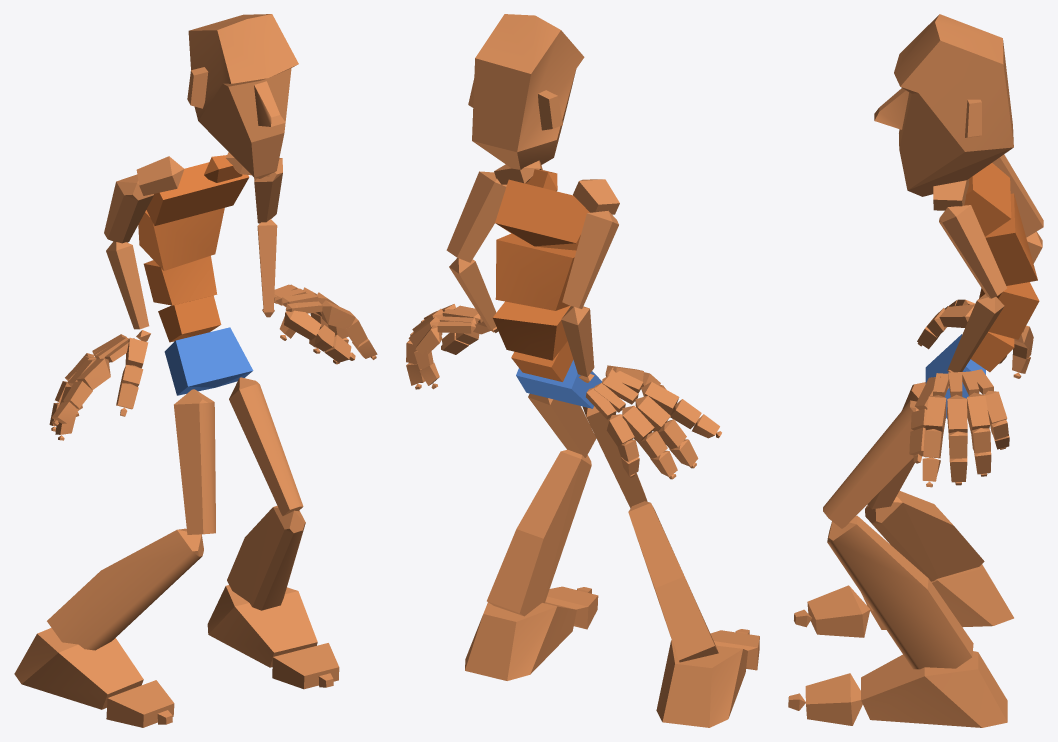
Rendered from personaje36.obj.
3 renders of one model, left to right at view 1: azimuth 30°, elevation 25°; view 2: azimuth 150°, elevation 25°; view 3: azimuth 270°, elevation 25°, orthographic. The views are drawn at different scales.
Visible parts, largest first — view 1: BOPED_Head, BOPED_R_leg, BOPED_R_foot, BOPED_R_foot01, BOPED_L_leg, BOPED_R_legup, BOPED_L_legup, Bone01, Bone04, Bone05, Bone03, BOPED_R_foot_toe04 (+11 smaller); view 2: BOPED_Head, BOPED_L_leg, BOPED_R_foot01, BOPED_R_foot, BOPED_R_leg, Bone04, Bone05, Bone03, BOPED_L_arm_upper, BOPED_R_arm_upper, BOPED_L_legup, Bone01 (+13 smaller); view 3: BOPED_Head, BOPED_L_leg, BOPED_R_foot01, BOPED_R_leg, BOPED_L_legup, BOPED_R_foot, BOPED_L_arm_upper, BOPED_R_foot_toe01, Bone04, BOPED_R_foot_toe04, Bone05, Bone03 (+14 smaller).
Part boxes in pixels (x1=…): BOPED_Head: x1=187, y1=14, x2=298, y2=178; BOPED_R_leg: x1=47, y1=528, x2=203, y2=650; BOPED_R_foot: x1=14, y1=628, x2=143, y2=709; BOPED_R_foot01: x1=207, y1=585, x2=317, y2=667; BOPED_L_leg: x1=227, y1=505, x2=305, y2=610; BOPED_R_legup: x1=174, y1=389, x2=215, y2=534; BOPED_L_legup: x1=229, y1=377, x2=303, y2=515; Bone01: x1=164, y1=327, x2=253, y2=395; Bone04: x1=138, y1=207, x2=224, y2=270; Bone05: x1=146, y1=162, x2=249, y2=225; Bone03: x1=143, y1=255, x2=217, y2=305; BOPED_R_foot_toe04: x1=272, y1=643, x2=339, y2=689; BOPED_Head: x1=468, y1=14, x2=584, y2=169; BOPED_L_leg: x1=487, y1=449, x2=591, y2=616; BOPED_R_foot01: x1=465, y1=602, x2=576, y2=680; BOPED_R_foot: x1=656, y1=640, x2=747, y2=727; BOPED_R_leg: x1=628, y1=501, x2=718, y2=662; Bone04: x1=495, y1=233, x2=576, y2=310; Bone05: x1=495, y1=179, x2=589, y2=250; Bone03: x1=492, y1=301, x2=570, y2=360; BOPED_L_arm_upper: x1=446, y1=171, x2=506, y2=262; BOPED_R_arm_upper: x1=562, y1=210, x2=618, y2=308; BOPED_L_legup: x1=528, y1=393, x2=596, y2=457; Bone01: x1=516, y1=360, x2=601, y2=408; BOPED_Head: x1=874, y1=14, x2=1013, y2=196; BOPED_L_leg: x1=827, y1=515, x2=973, y2=669; BOPED_R_foot01: x1=861, y1=651, x2=1007, y2=727; BOPED_R_leg: x1=865, y1=491, x2=984, y2=581; BOPED_L_legup: x1=823, y1=400, x2=918, y2=528; BOPED_R_foot: x1=861, y1=564, x2=1013, y2=629; BOPED_L_arm_upper: x1=939, y1=205, x2=1007, y2=298; BOPED_R_foot_toe01: x1=807, y1=585, x2=870, y2=637; Bone04: x1=985, y1=193, x2=1037, y2=285; BOPED_R_foot_toe04: x1=805, y1=673, x2=862, y2=725; Bone05: x1=964, y1=163, x2=1011, y2=236; Bone03: x1=979, y1=282, x2=1039, y2=339.
Size of the model in its own units: 94.19 by 169 by 57.41.
